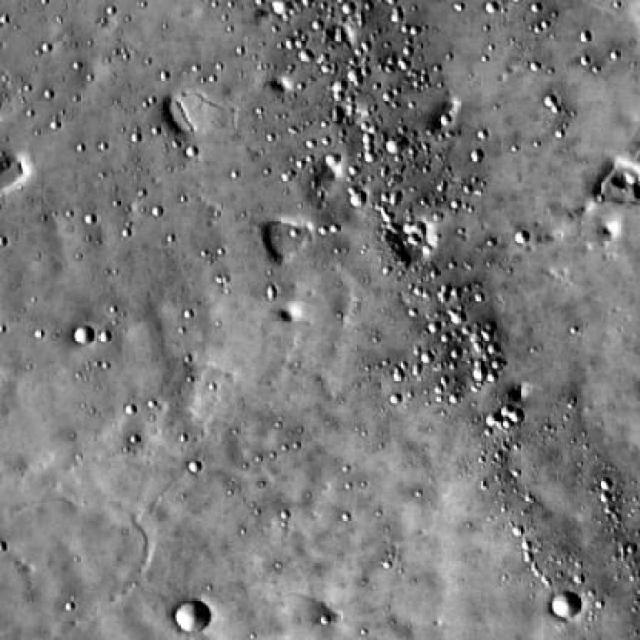crater: (173, 598, 212, 633), (552, 590, 582, 618), (73, 327, 95, 345), (272, 0, 290, 17), (386, 138, 403, 154), (347, 190, 365, 205)
